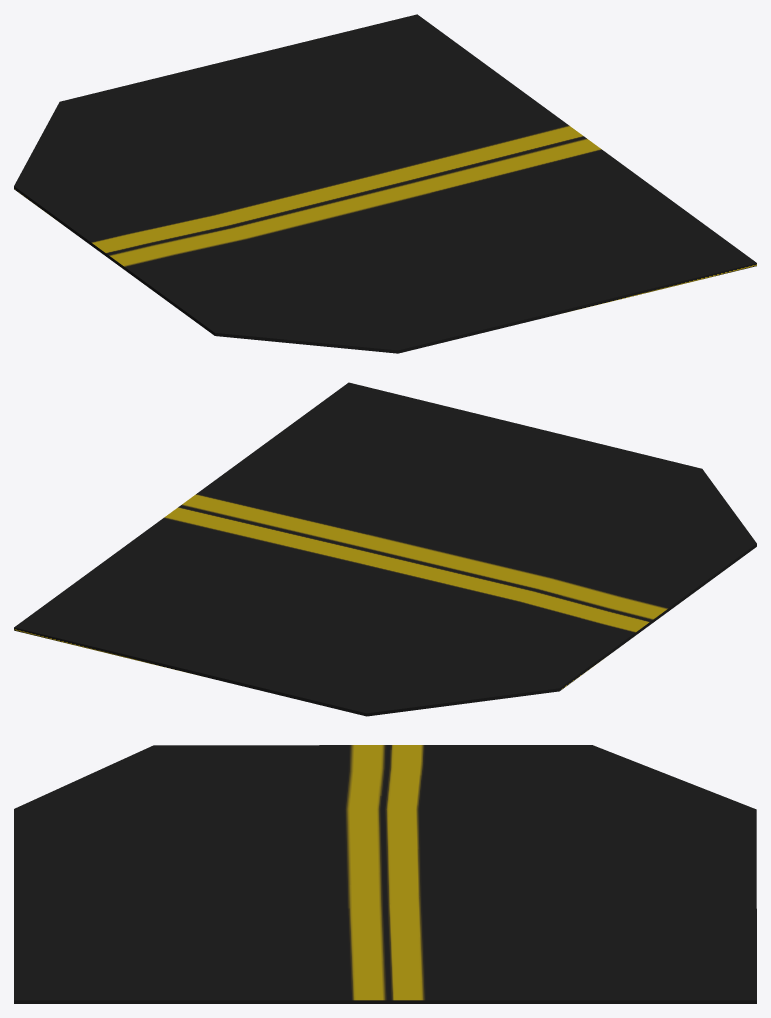
Rendered from roadintersection1.fbx.
3 views of the same model, one above another, from view 1: azimuth 30°, elevation 25°; view 2: azimuth 150°, elevation 25°; view 3: azimuth 270°, elevation 25° (orthographic). The views are drawn at different scales.
Visible parts, largest first — view 1: pCube81; view 2: pCube81; view 3: pCube81.
Part boxes in pixels (left/top/right/bottom): pCube81: left=14, top=14, right=756, bottom=353; pCube81: left=14, top=382, right=756, bottom=716; pCube81: left=14, top=745, right=756, bottom=1003.
Bounding box in the file's own units: 12.9 × 0.0815 × 15.86.
1 material, 1 textured.
